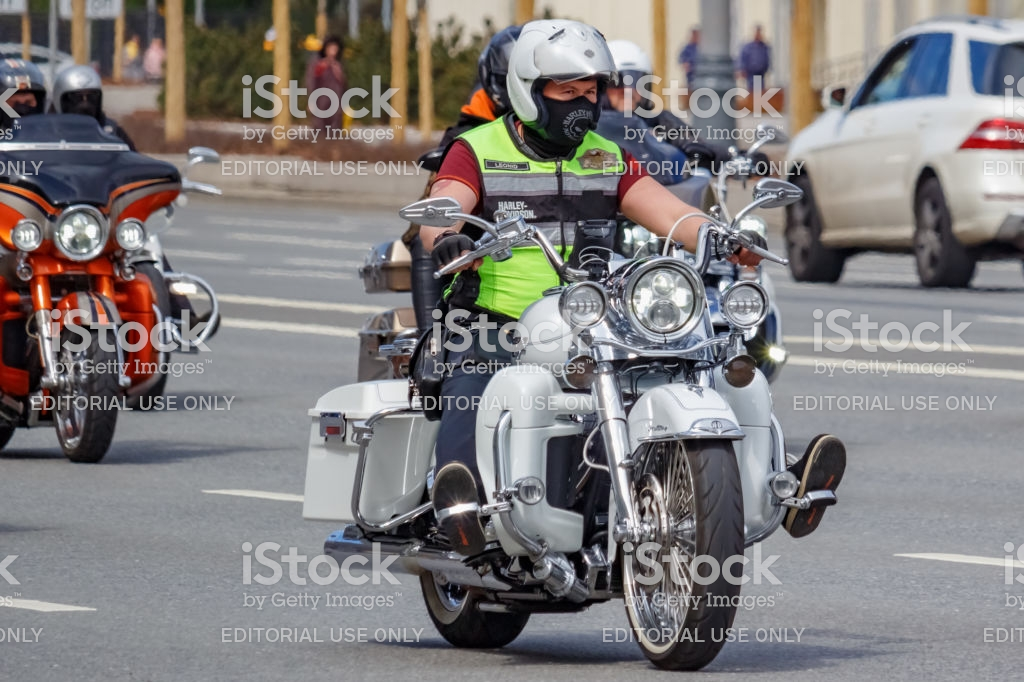helmet: (507, 23, 612, 130)
